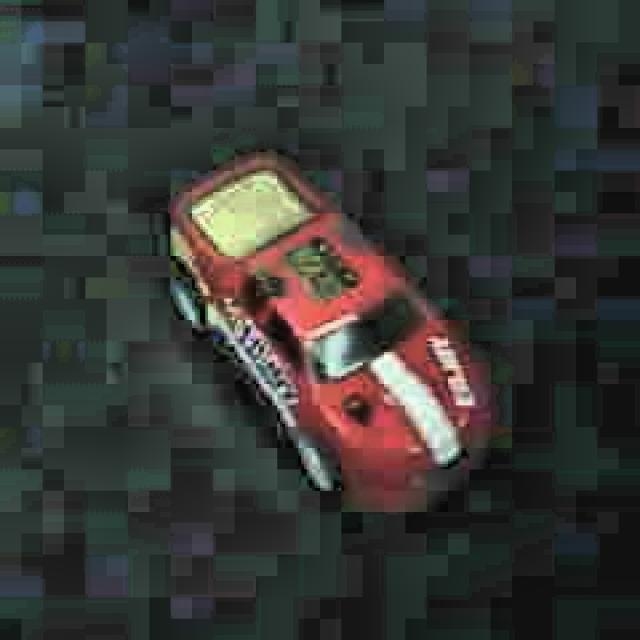car: (163, 148, 497, 520)
